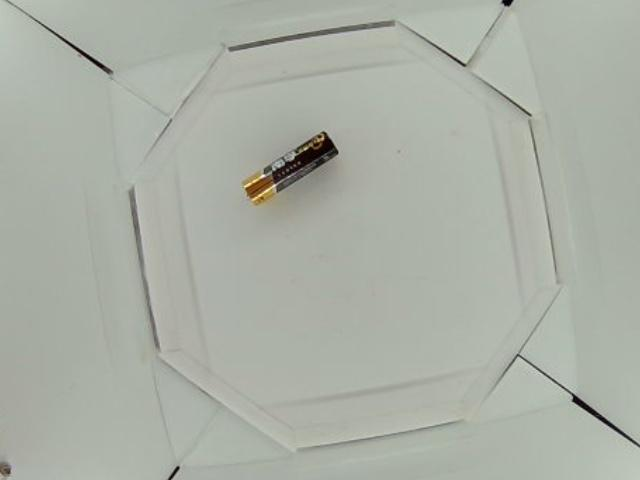Battery: (240, 130, 341, 207)
